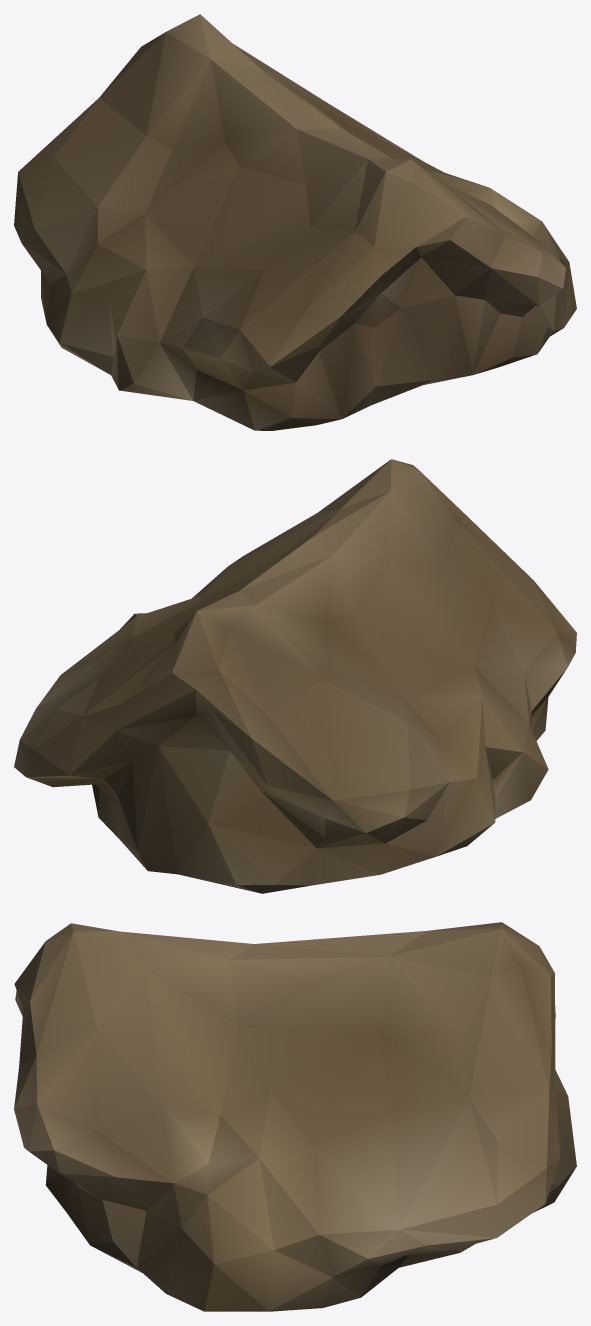
File: pottery_kiln.glb
3 views of the same model, one above another, from view 1: azimuth 30°, elevation 25°; view 2: azimuth 150°, elevation 25°; view 3: azimuth 270°, elevation 25° (orthographic). The views are drawn at different scales.
Parts seen in each view (by area): view 1: model.001; view 2: model.001; view 3: model.001.
Boxes of the visible parts, x1=… form: model.001: x1=14, y1=14, x2=576, y2=430; model.001: x1=14, y1=459, x2=576, y2=893; model.001: x1=14, y1=922, x2=576, y2=1311.
Bounding box in the file's own units: 1.01 × 0.5421 × 1.01.
